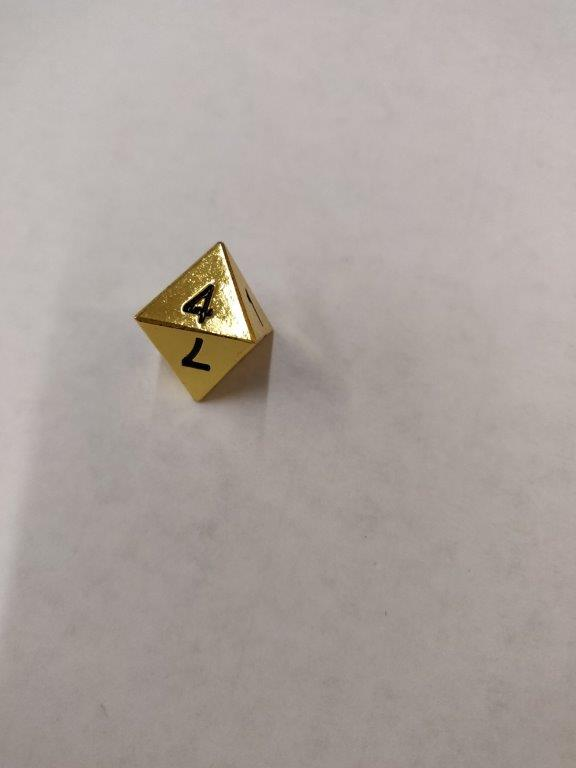d8-4: (133, 241, 275, 405)
